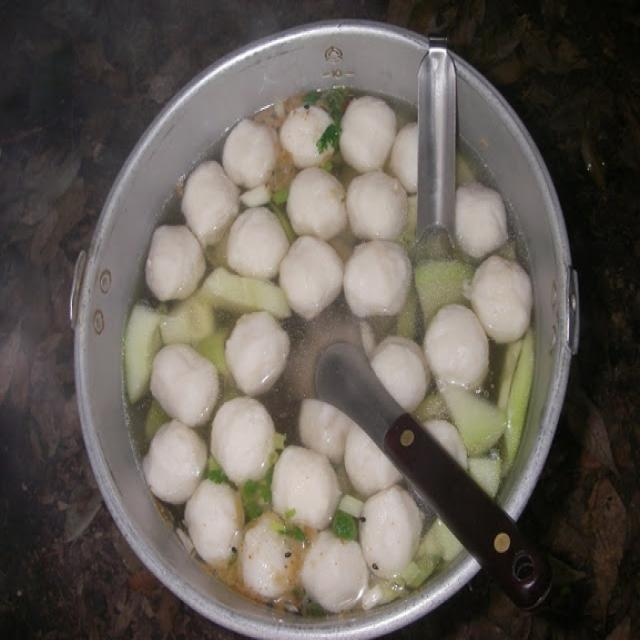熟制海鲜: (60, 23, 591, 618)
